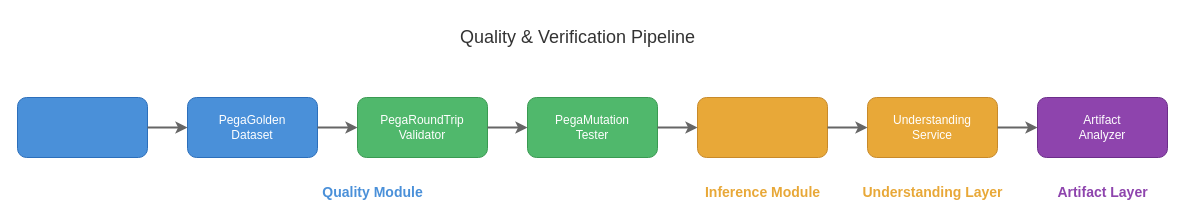
Some shapes in this 1185 by 224 pixel diagram are drawn without their labels. Here are the shapes that lost their labels. From the top down, the centre of each, then its label:
At point 82,127: "Parser Output".
At point 762,127: "PegaSchema Inferrer".
